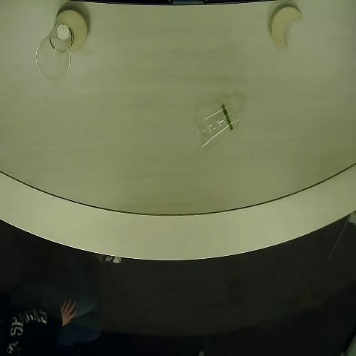empty_cup: (192, 104, 248, 149), (33, 22, 75, 81)
puck: (54, 6, 94, 55), (266, 1, 306, 49)
